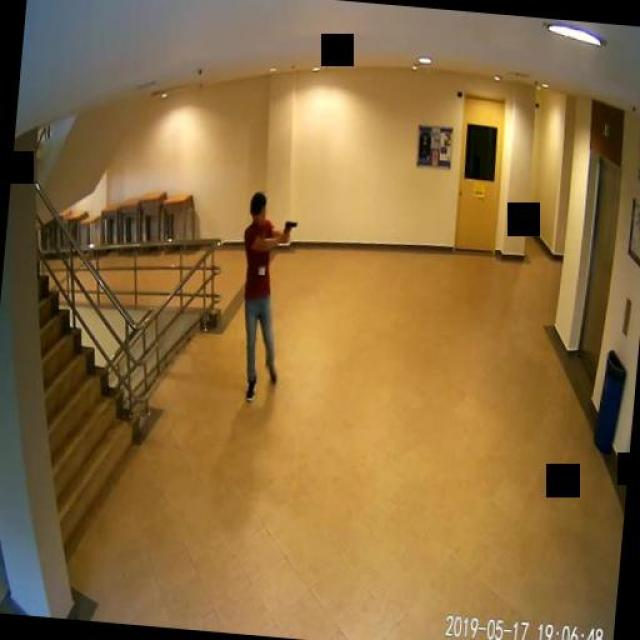gun: (280, 218, 296, 242)
